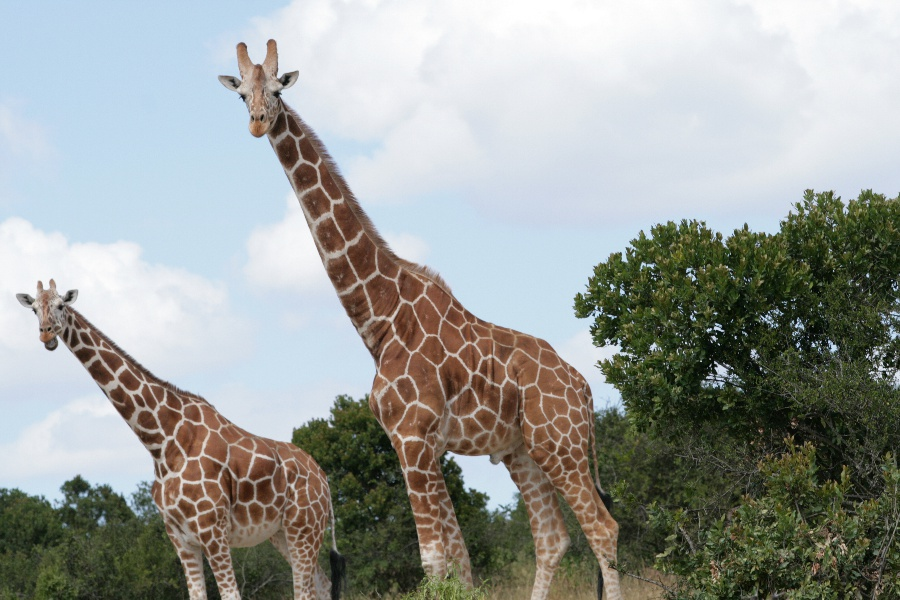giraffe: (207, 34, 640, 598), (14, 269, 349, 599)
